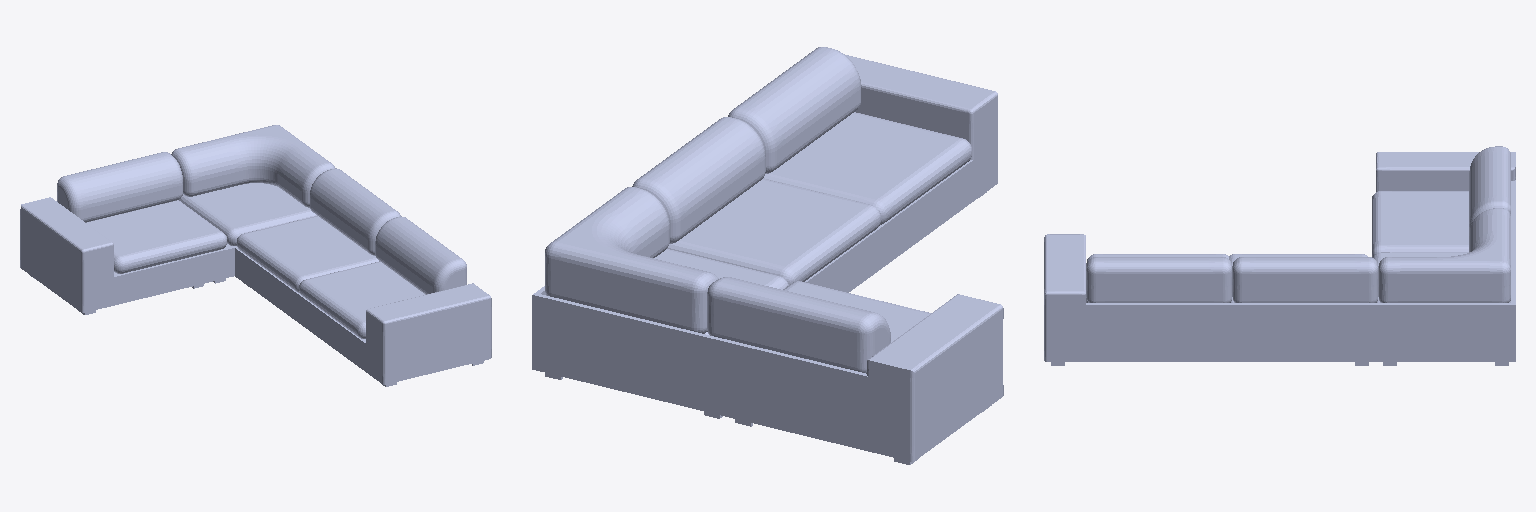
URDF robot description (sofa2_red):
<robot
  name="sofa2_red">
  <link
    name="sofa2_red">
    <inertial>
      <origin
        xyz="1.4845 -2.3255 1.1259"
        rpy="0 0 0" />
      <mass
        value="1059.6" />
      <inertia
        ixx="940.429588243677"
        ixy="-254.985014549715"
        ixz="16.0500129055299"
        iyy="373.510603520636"
        iyz="-17.1920779246872"
        izz="1270.88182431136" />
    </inertial>
    <visual>
      <origin
        xyz="0 0 0"
        rpy="0 0 0" />
      <geometry>
        <mesh
          filename="package://sofa2_red/meshes/sofa2_red.dae" />
      </geometry>
      <material
        name="">
        <color
          rgba="0.79216 0.81961 0.93333 1" />
      </material>
    </visual>
    <collision>
      <origin
        xyz="0 0 0"
        rpy="0 0 0" />
      <geometry>
        <mesh
          filename="package://sofa2_red/meshes/sofa2_red.dae" />
      </geometry>
    </collision>
  </link>
</robot>

--- Facts derived from the render (not from the file) ---
3 views of the same robot in one strip: view 1: azimuth 30°, elevation 25°; view 2: azimuth 150°, elevation 25°; view 3: azimuth 270°, elevation 25° (orthographic).
Model sofa2_red with 1 links and 0 joints (none), rooted at sofa2_red, posed all joints at 0.
Links seen in each view (by area): view 1: sofa2_red; view 2: sofa2_red; view 3: sofa2_red.
Boxes of the visible links, x1,y1,x2,y2 form: sofa2_red: [20, 125, 491, 386]; sofa2_red: [532, 47, 1003, 464]; sofa2_red: [1044, 146, 1515, 365].
Size in the robot's own frame: 2.4 by 3.37 by 0.8 metres.
Meshes: 1 distinct files referenced, 1 mesh visuals loaded (1 Collada DAE).